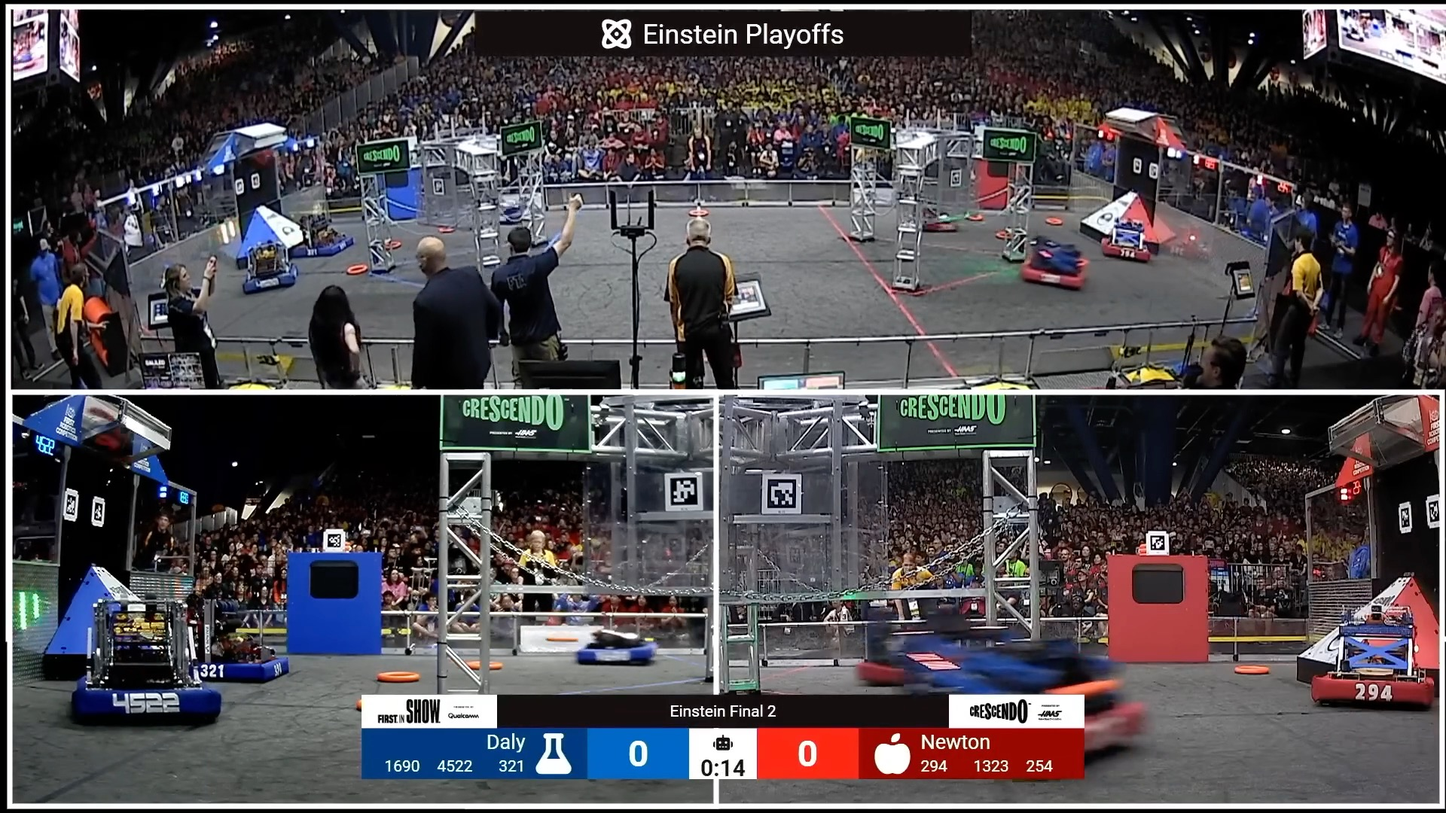bumpers: (72, 676, 230, 724), (1307, 666, 1438, 710), (1010, 247, 1100, 295), (192, 651, 299, 685), (1089, 225, 1172, 266), (223, 261, 306, 297), (570, 637, 664, 665), (263, 234, 359, 259), (913, 213, 964, 236)
